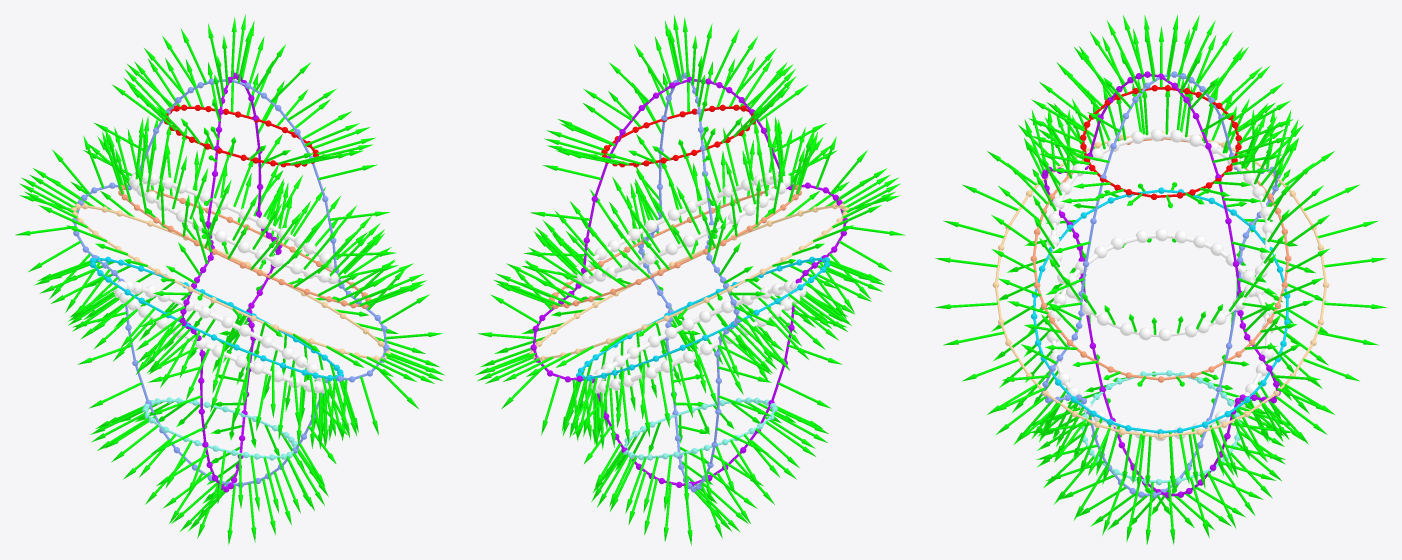
File: flowrep_ellipsetorus.gltf
3 renders of one model, left to right at view 1: azimuth 30°, elevation 25°; view 2: azimuth 150°, elevation 25°; view 3: azimuth 270°, elevation 25°, orthographic. The views are drawn at different scales.
Size of the model in its own units: 0.658 by 0.8783 by 0.6986.
